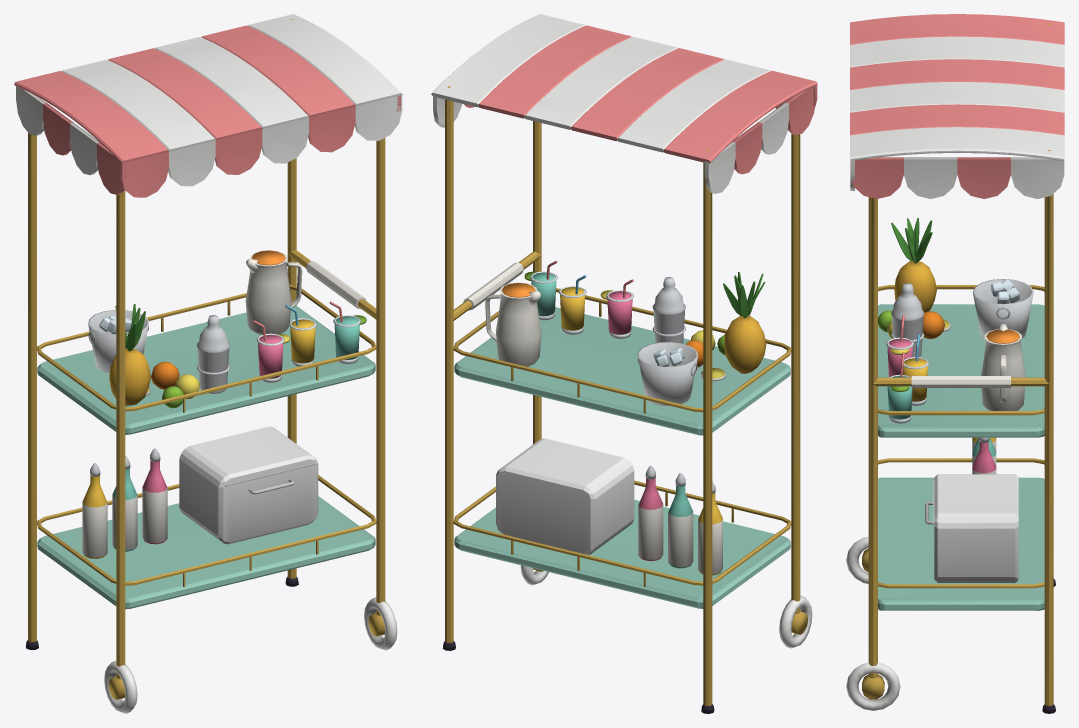
Rendered from mocktailCart.glb.
The picture shows the model from 3 angles, left to right: view 1: azimuth 30°, elevation 25°; view 2: azimuth 150°, elevation 25°; view 3: azimuth 270°, elevation 25°; orthographic projection.
Visible parts, largest first — view 1: body, shaker; view 2: body, shaker; view 3: body, shaker.
Boxes of the visible parts, <box> form: body: <box>14,14,402,713</box>; shaker: <box>196,315,230,393</box>; body: <box>431,14,817,713</box>; shaker: <box>652,277,685,343</box>; body: <box>846,14,1064,713</box>; shaker: <box>891,283,924,357</box>.
Size of the model in its own units: 0.842 by 1.64 by 0.5719.
